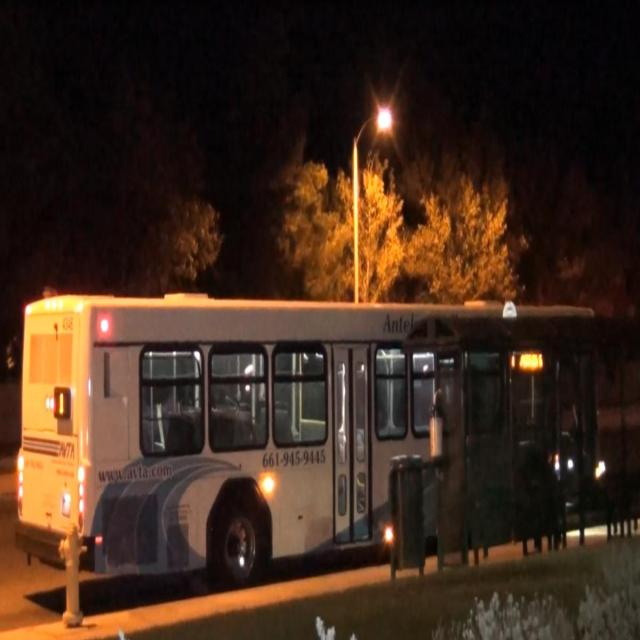Bus: (22, 254, 633, 616)
